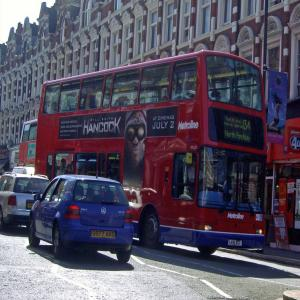Vehicle-registration-plate: (92, 232, 116, 239), (229, 240, 243, 247), (28, 203, 35, 209)
